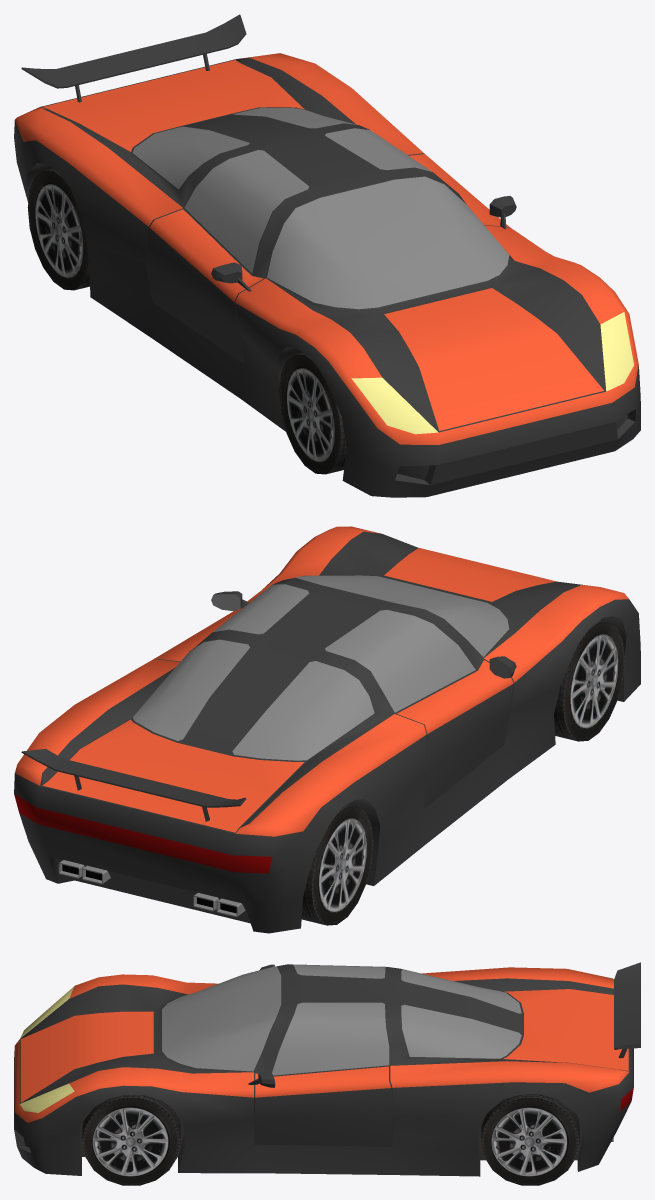
The model's file is car_2.FBX.
3 views of the same model, one above another, from view 1: azimuth 30°, elevation 25°; view 2: azimuth 150°, elevation 25°; view 3: azimuth 270°, elevation 25° (orthographic). The views are drawn at different scales.
Visible parts, largest first — view 1: Object014, Cylinder062, Cylinder074; view 2: Object014, Cylinder074, Cylinder062; view 3: Object014, Cylinder068, Cylinder069.
Part boxes in pixels (<box>): Object014: <box>14,14,640,497</box>; Cylinder062: <box>279,352,346,474</box>; Cylinder074: <box>27,168,89,290</box>; Object014: <box>14,526,640,933</box>; Cylinder074: <box>301,803,373,925</box>; Cylinder062: <box>554,619,624,741</box>; Object014: <box>14,962,640,1176</box>; Cylinder068: <box>481,1094,579,1185</box>; Cylinder069: <box>82,1095,180,1185</box>.
Size of the model in its own units: 2.14 by 1.22 by 4.88.
